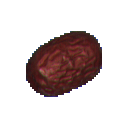gd: (13, 17, 110, 114)
